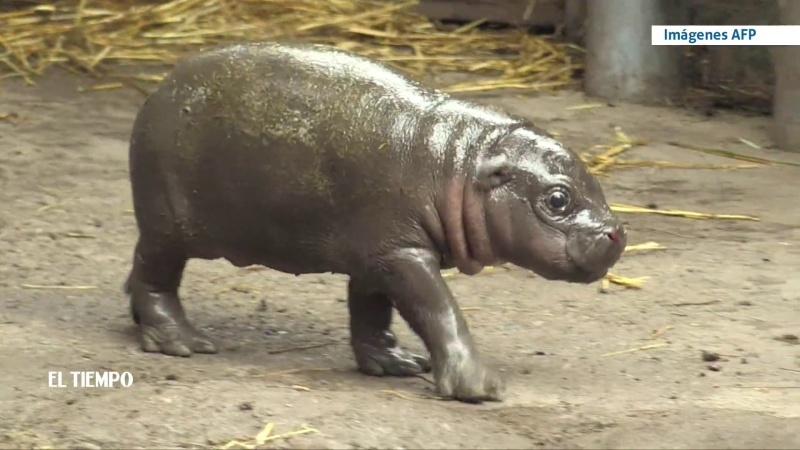hipopotamo: (103, 30, 637, 409)
